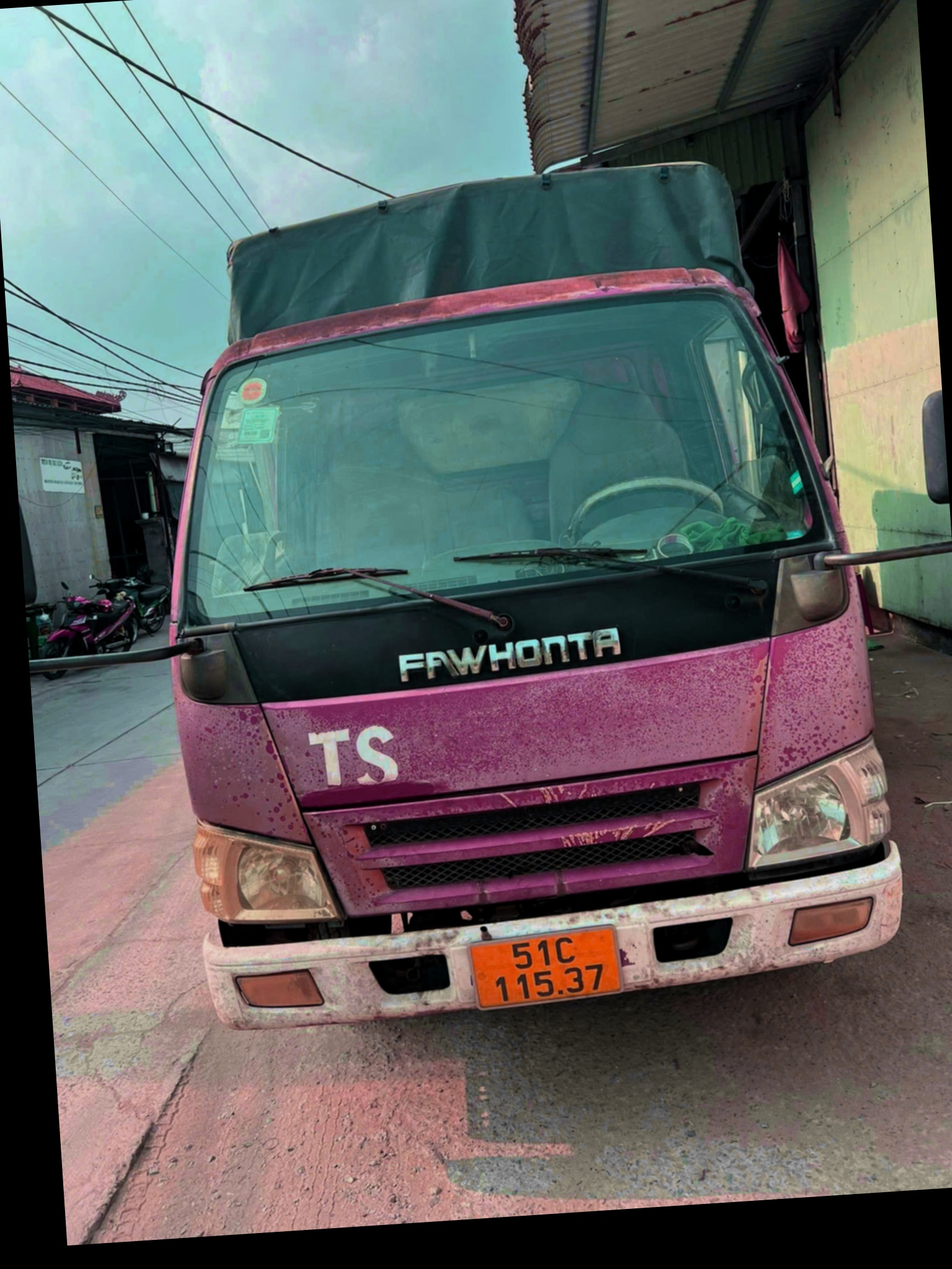Bien-so: (468, 966, 634, 1066)
